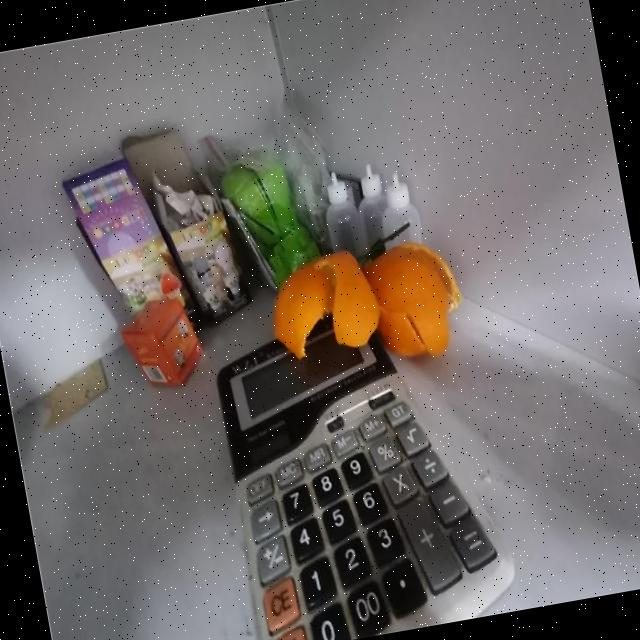orange-peel: (258, 227, 472, 384)
